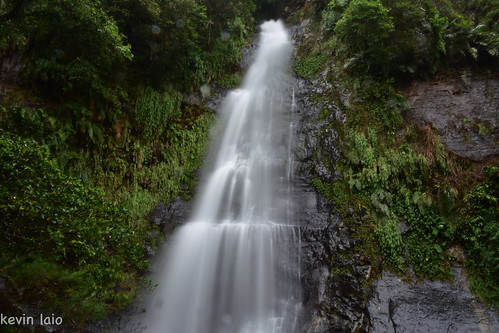wufengciWaterfall: (145, 17, 360, 327)
